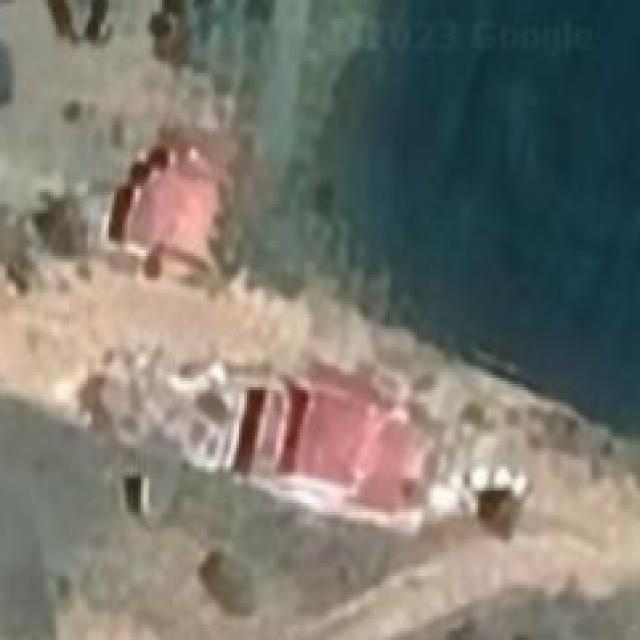Batiment: (237, 363, 435, 509), (110, 143, 216, 268)
